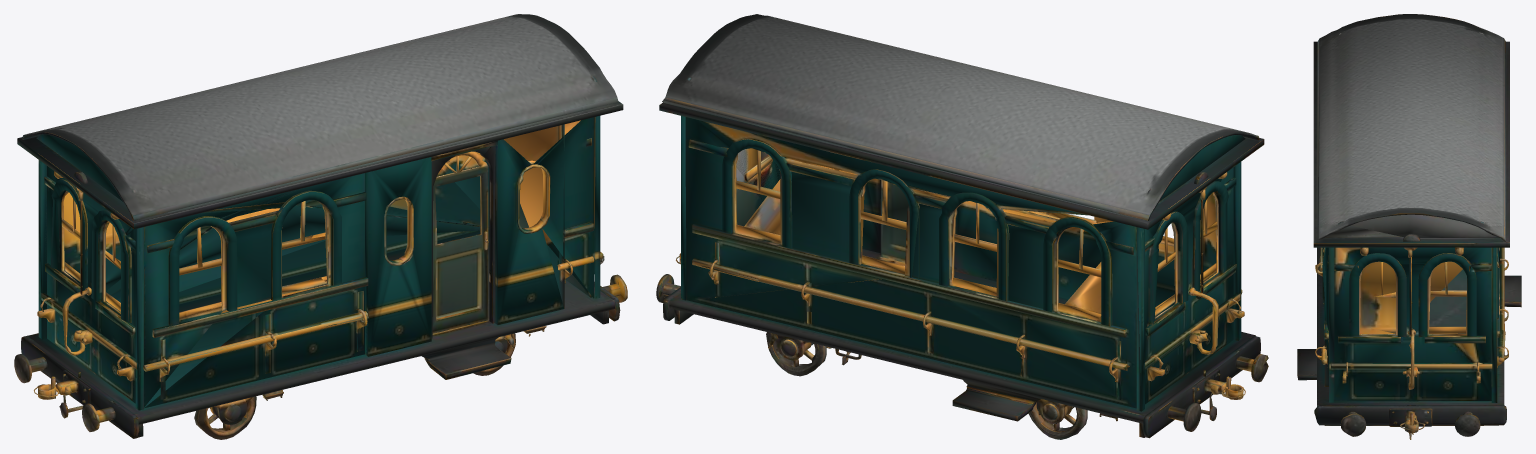
File: carriage.glb
3 renders of one model, left to right at view 1: azimuth 30°, elevation 25°; view 2: azimuth 150°, elevation 25°; view 3: azimuth 270°, elevation 25°, orthographic. The views are drawn at different scales.
Size of the model in its own units: 0.9497 by 0.4721 by 0.3862.
Materials: 1 (1 with a texture image).
